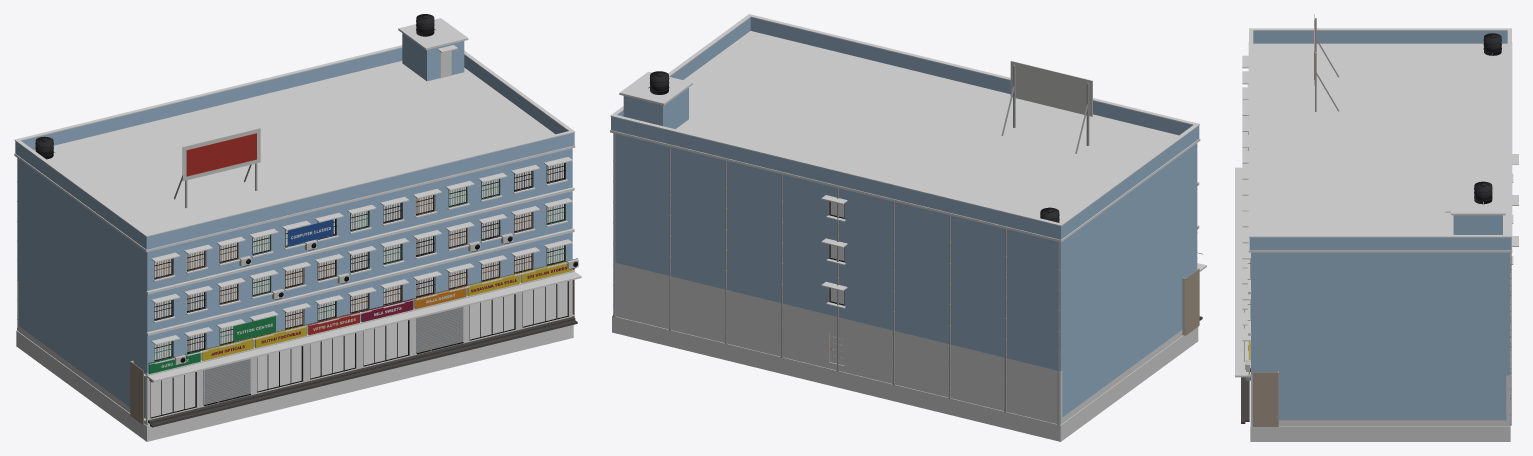
Rendered from commercial_34x18_4.glb.
3 views of the same model, side by side, from view 1: azimuth 30°, elevation 25°; view 2: azimuth 150°, elevation 25°; view 3: azimuth 270°, elevation 25° (orthographic). The views are drawn at different scales.
Visible parts, largest first — view 1: commercial_34x18_4; view 2: commercial_34x18_4; view 3: commercial_34x18_4.
Boxes of the visible parts, x1,y1,x2,y2 form: commercial_34x18_4: [14, 14, 581, 441]; commercial_34x18_4: [610, 14, 1206, 441]; commercial_34x18_4: [1235, 14, 1518, 441].
Bounding box in the file's own units: 34.55 × 19.45 × 19.71.
